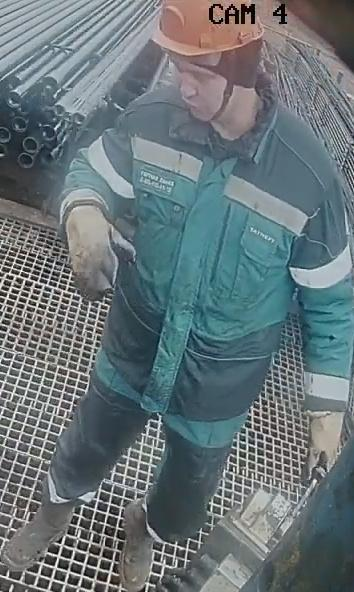gloves: (64, 203, 136, 301), (299, 386, 346, 482)
helmet: (150, 0, 265, 67)
vest: (91, 90, 351, 422)
